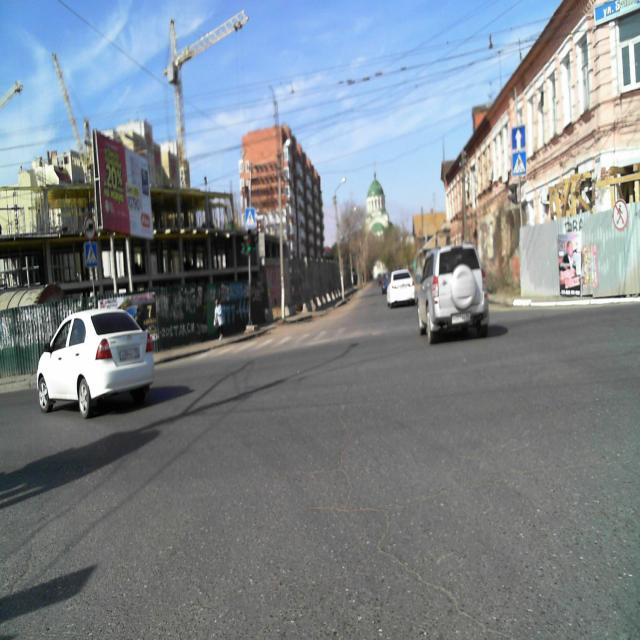road sign: (512, 125, 525, 152), (84, 241, 97, 268), (512, 151, 525, 177), (245, 206, 256, 231)
